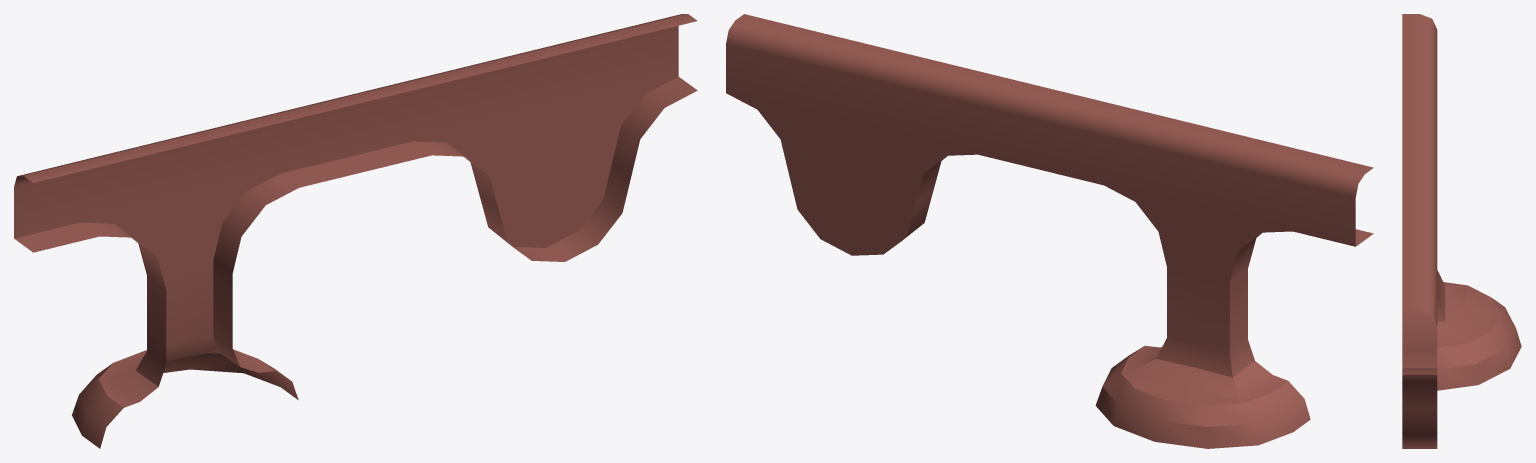
Rendered from SM_drop_3.fbx.
3 views of the same model, side by side, from view 1: azimuth 30°, elevation 25°; view 2: azimuth 150°, elevation 25°; view 3: azimuth 270°, elevation 25° (orthographic). The views are drawn at different scales.
Parts seen in each view (by area): view 1: SM_drop_3; view 2: SM_drop_3; view 3: SM_drop_3.
Part boxes in pixels (x1,y1,x2,y2): SM_drop_3: (14,14,697,448); SM_drop_3: (726,14,1373,448); SM_drop_3: (1402,14,1521,448).
Bounding box in the file's own units: 500 × 203 × 85.
